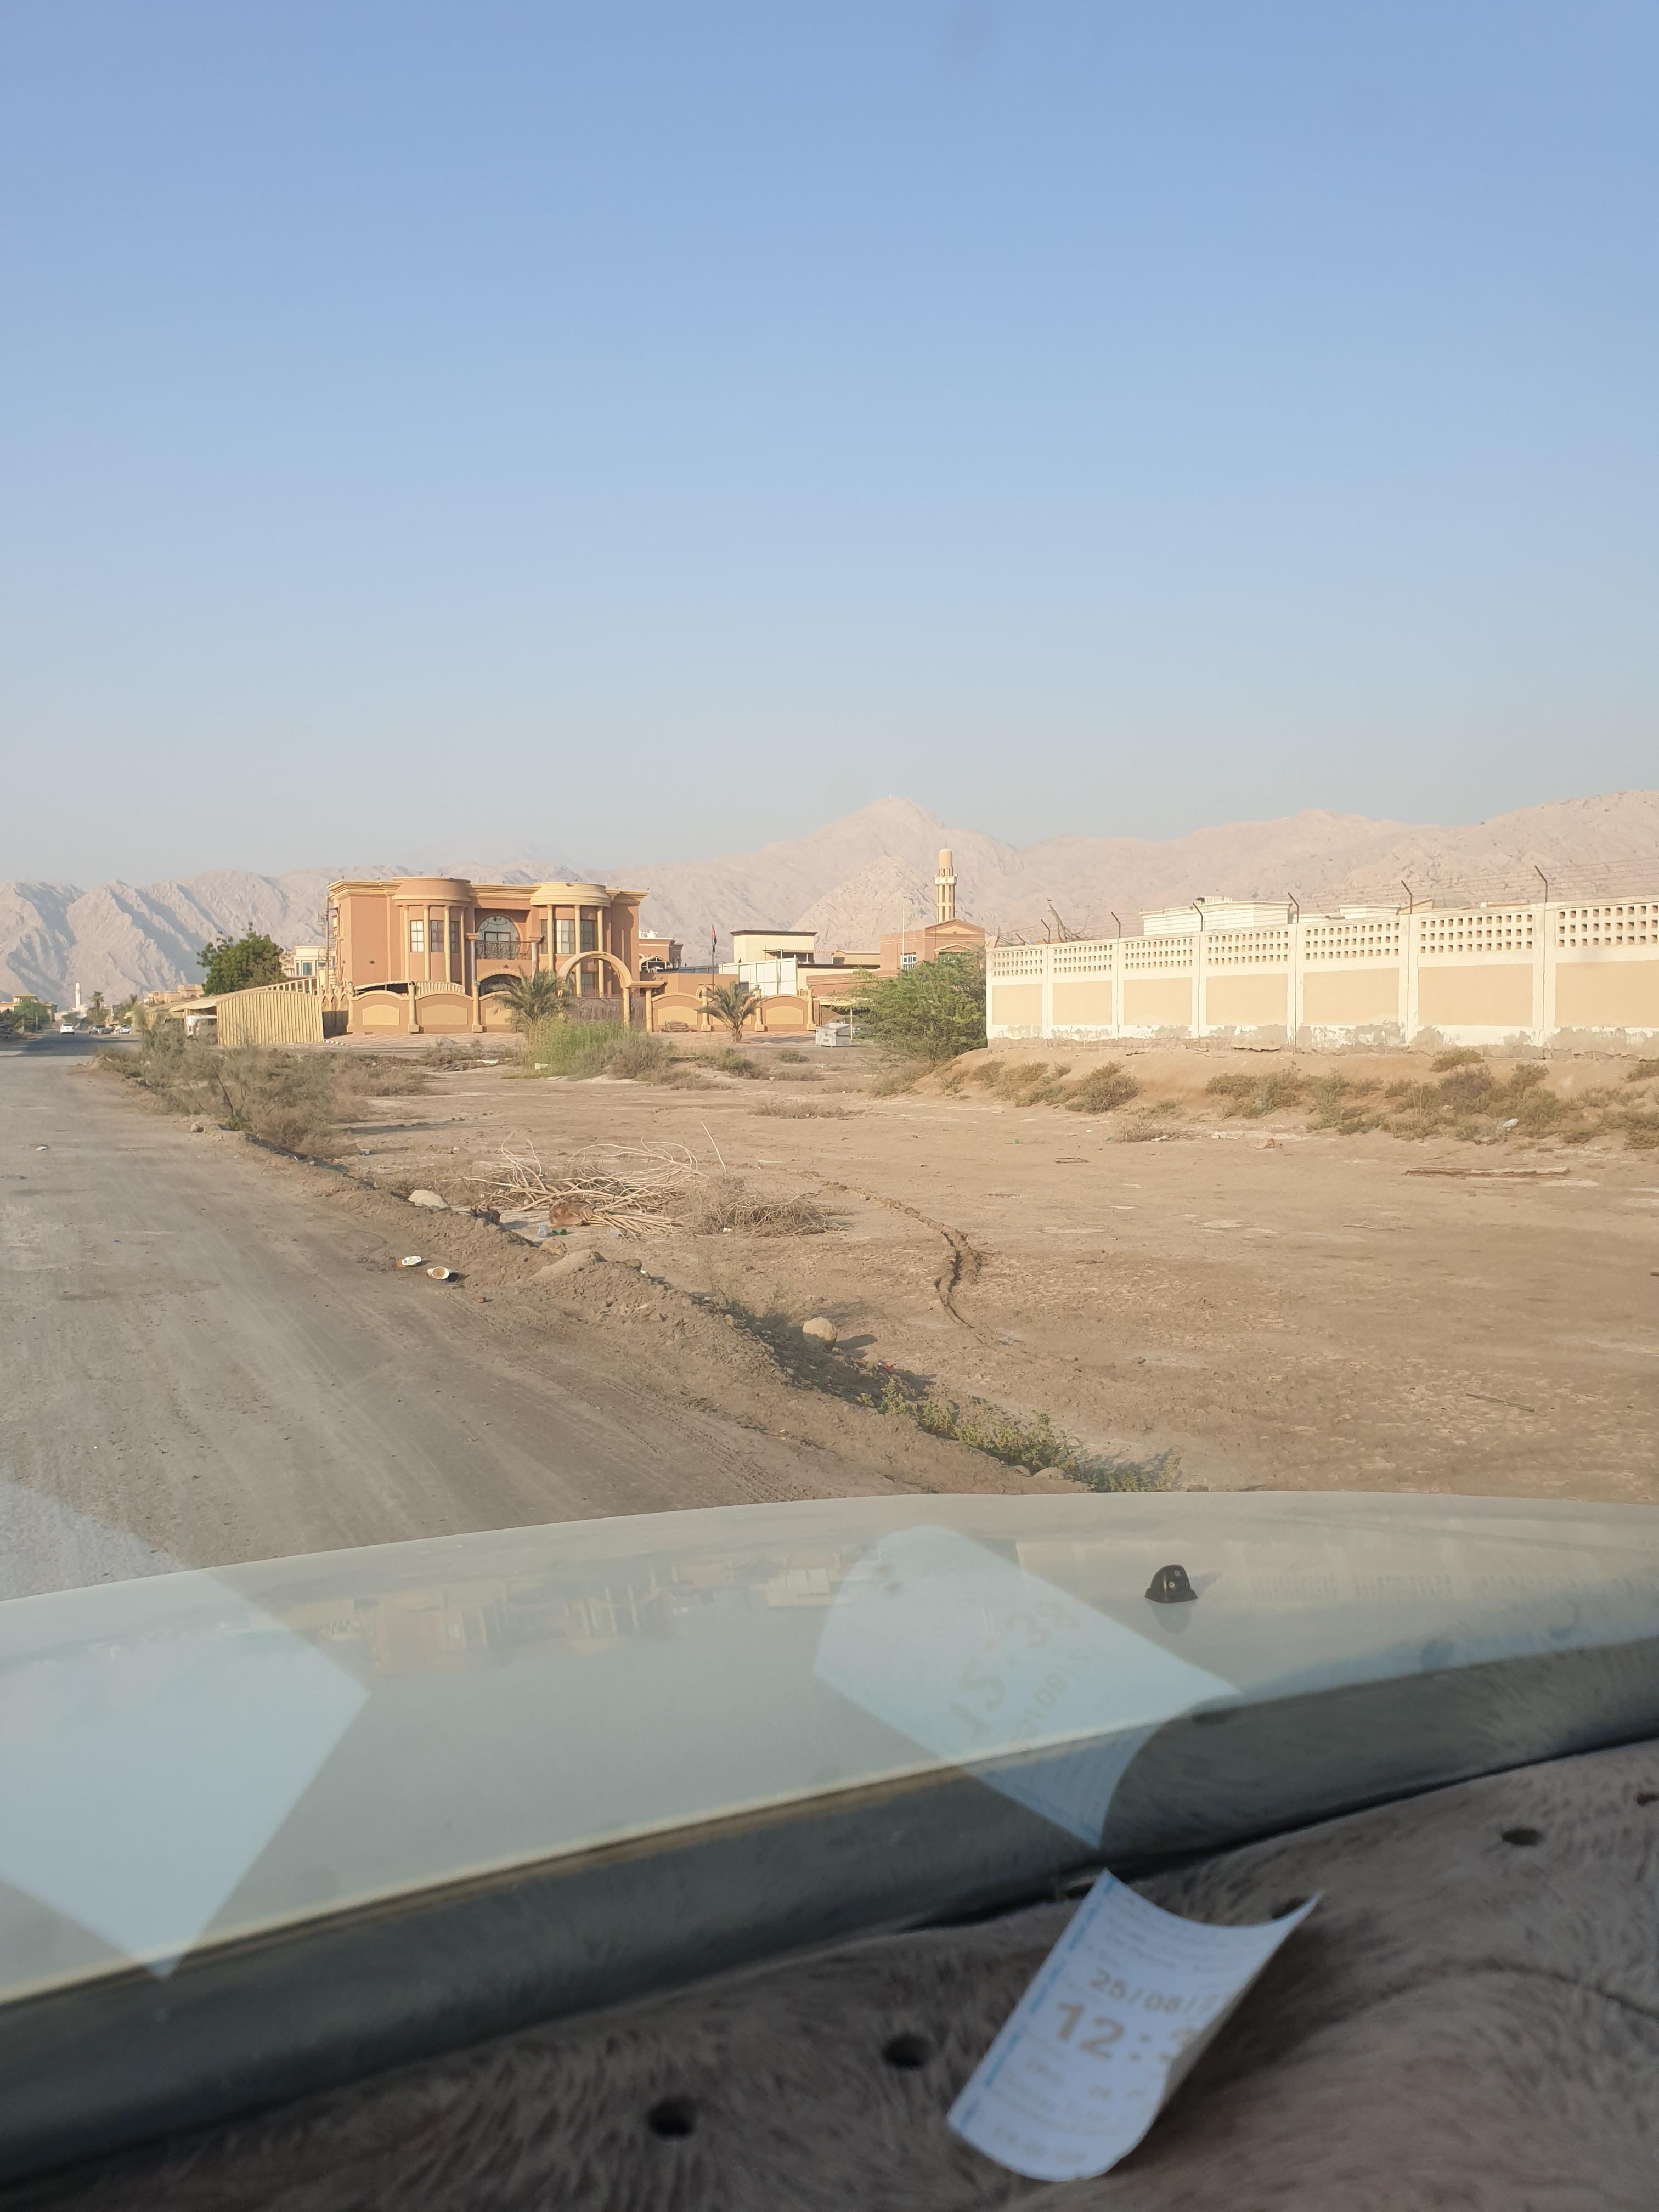fallen_trees: (448, 1109, 866, 1275), (498, 1127, 857, 1261)
